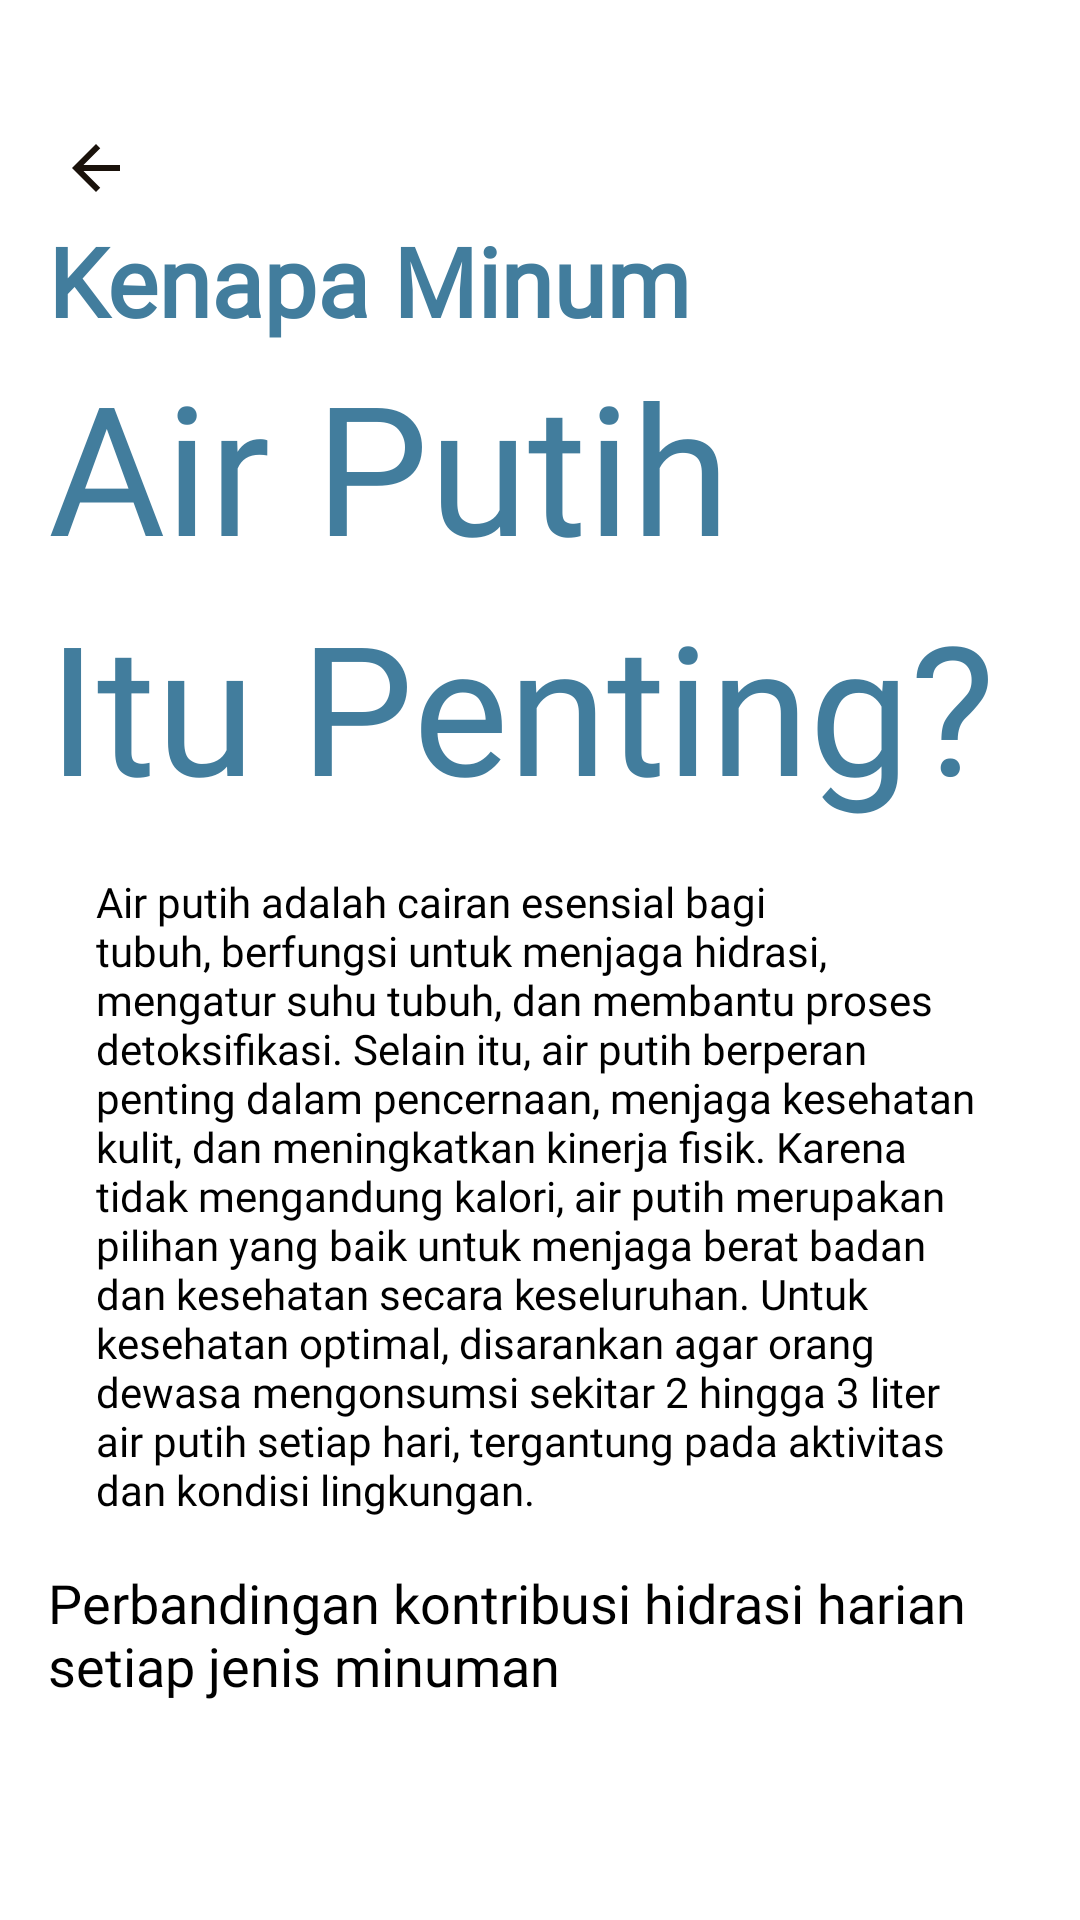

Where to tap for icons on this 1080px×1920px app screen, as (x=x, y=y):
back: (x=96, y=168)
